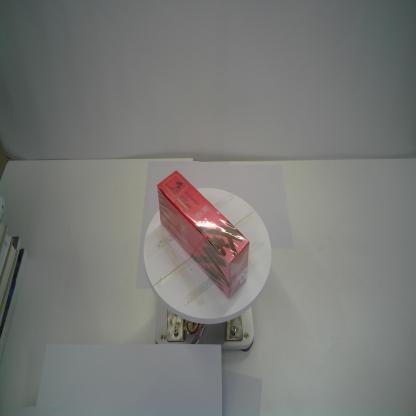Instant Drink: (157, 169, 250, 300)
